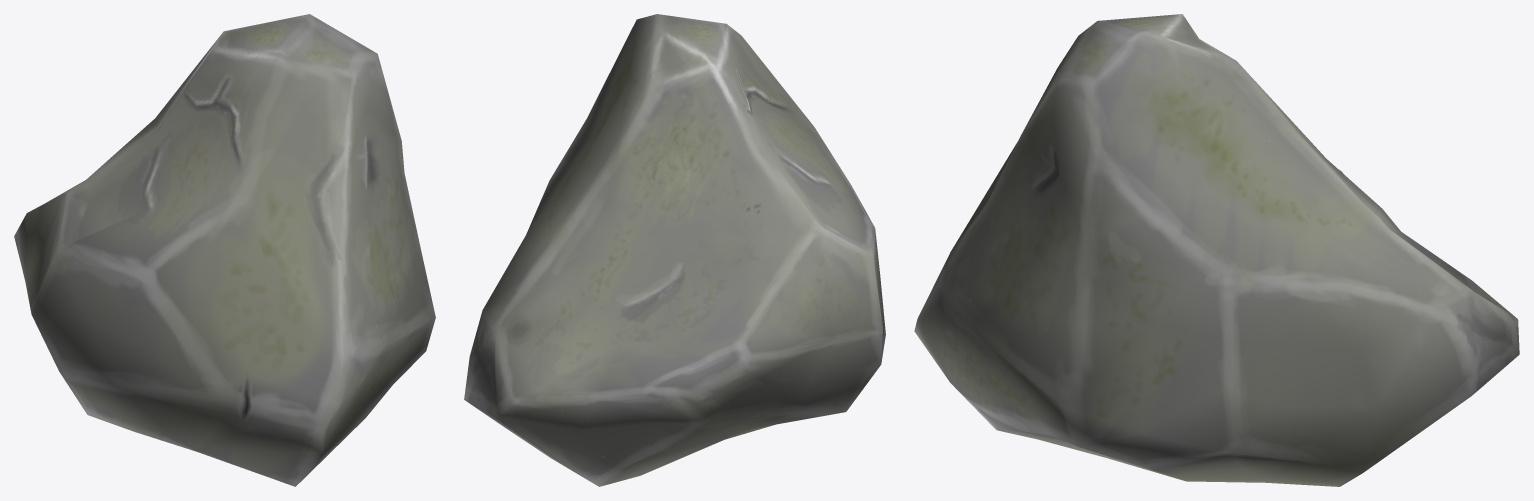
File: RockFinalized.fbx
3 views of the same model, side by side, from view 1: azimuth 30°, elevation 25°; view 2: azimuth 150°, elevation 25°; view 3: azimuth 270°, elevation 25° (orthographic). The views are drawn at different scales.
Parts seen in each view (by area): view 1: LowPolyRock; view 2: LowPolyRock; view 3: LowPolyRock.
Part boxes in pixels (<box>): LowPolyRock: <box>14,14,435,486</box>; LowPolyRock: <box>464,14,885,486</box>; LowPolyRock: <box>914,14,1519,486</box>.
Bounding box in the file's own units: 153 × 171 × 208.
Materials: 1 (1 with a texture image).
